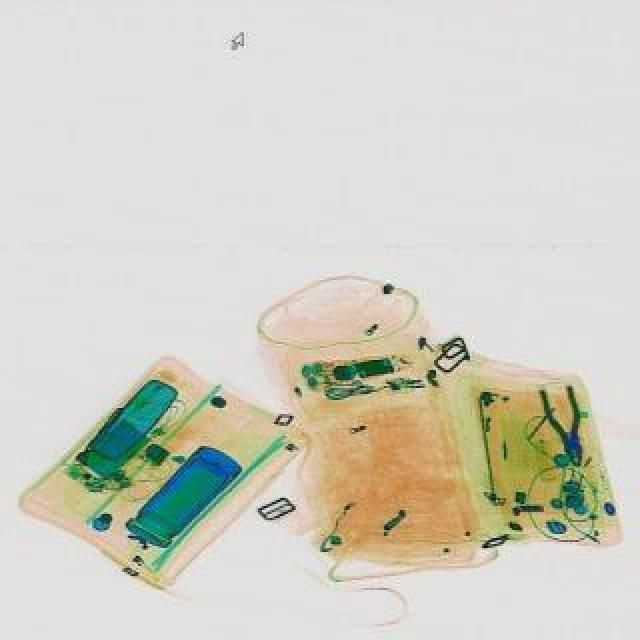wrench: (542, 382, 600, 470)
